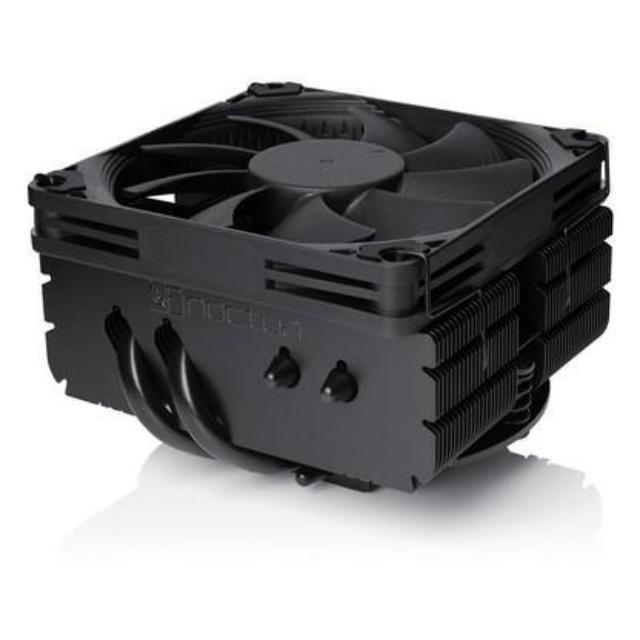CPU_Fan: (28, 64, 628, 510)
